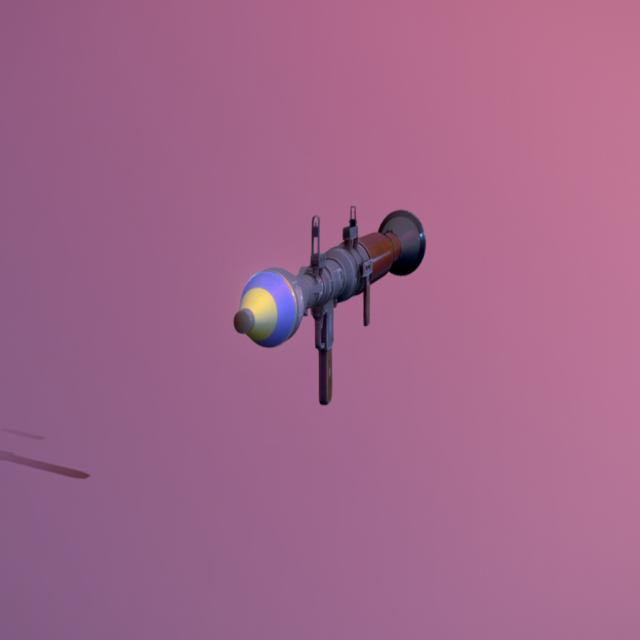bazooka: (203, 160, 438, 453)
